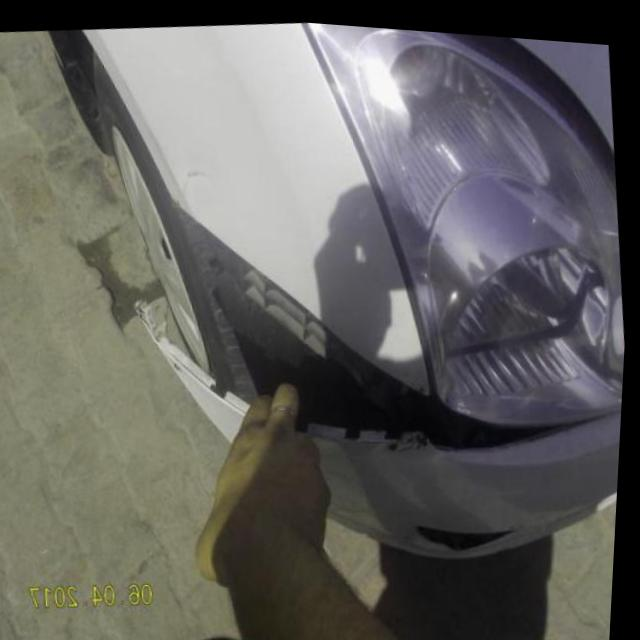Car-Damage: (113, 138, 628, 497)
